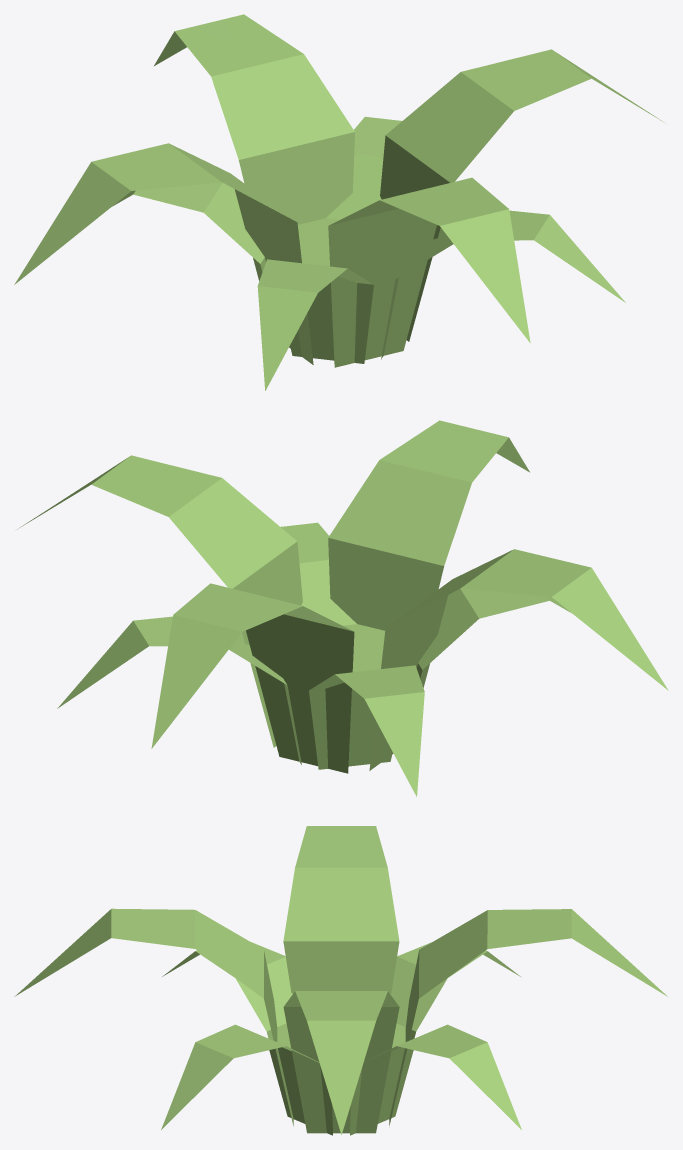
Rendered from Vegetation_Fern_01.fbx.
The picture shows the model from 3 angles, top to bottom: view 1: azimuth 30°, elevation 25°; view 2: azimuth 150°, elevation 25°; view 3: azimuth 270°, elevation 25°; orthographic projection. The views are drawn at different scales.
Parts seen in each view (by area): view 1: Vegetation_Fern_01; view 2: Vegetation_Fern_01; view 3: Vegetation_Fern_01.
Boxes of the visible parts, x1,y1,x2,y2 form: Vegetation_Fern_01: (14, 14, 664, 390); Vegetation_Fern_01: (17, 420, 668, 796); Vegetation_Fern_01: (14, 826, 667, 1135).
Bounding box in the file's own units: 81.88 × 26.16 × 81.88.
